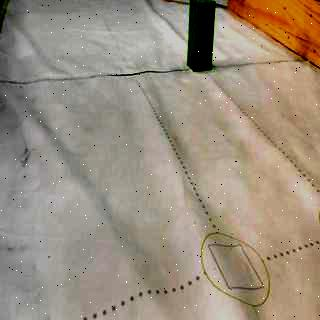greenbox: (188, 2, 215, 72)
